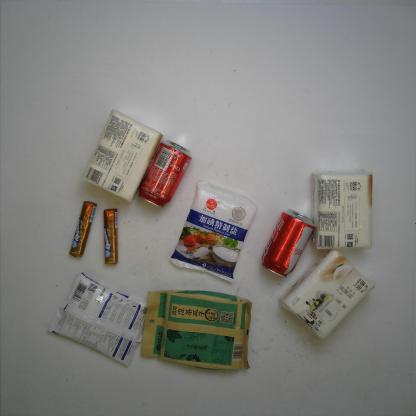Candy: (68, 200, 100, 260), (100, 207, 121, 266)
Dried Food: (138, 288, 258, 373)
Drink: (256, 206, 320, 281), (135, 137, 197, 211)
Seasoner: (42, 269, 153, 367), (165, 178, 261, 287)
Tissue: (278, 248, 377, 342), (80, 106, 168, 207), (308, 166, 376, 254)
